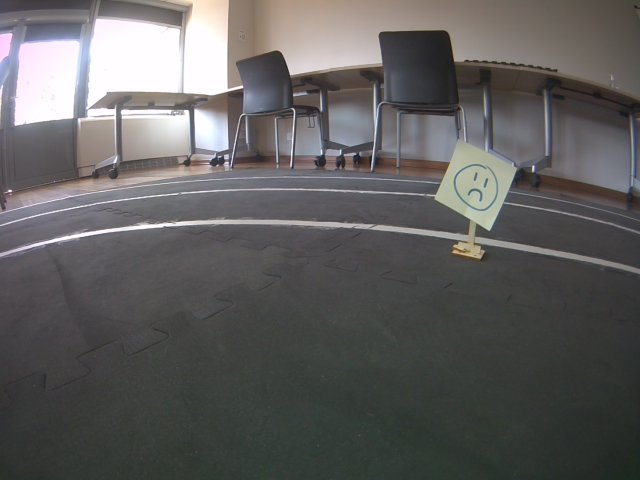Smiley: (431, 138, 517, 236)
